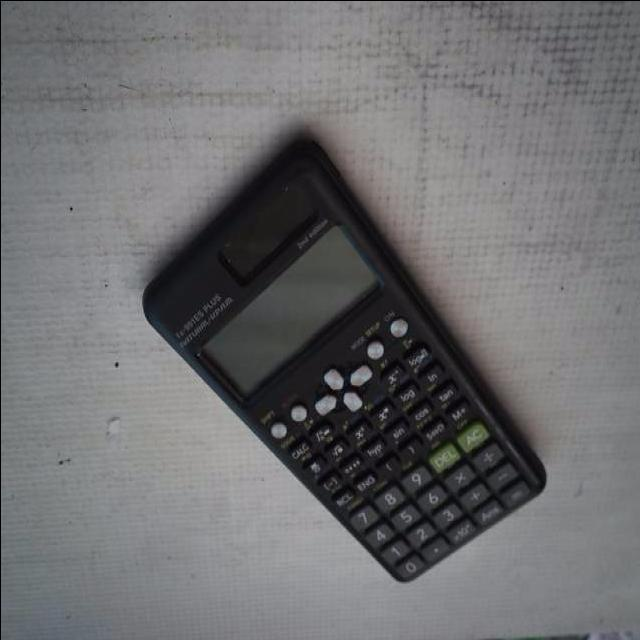Calculator: (139, 133, 549, 587)
